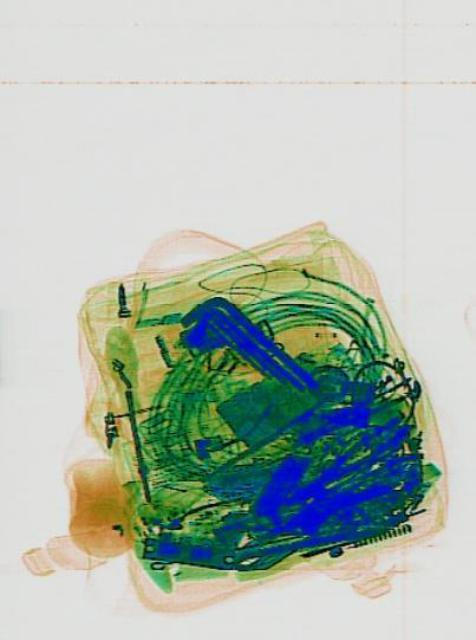Pliers: (282, 406, 413, 514)
